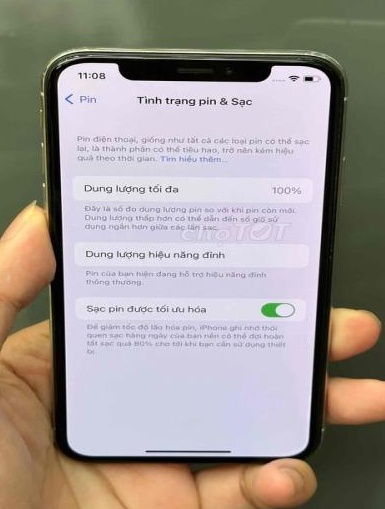scratch: (279, 41, 344, 72), (49, 41, 103, 76), (325, 244, 349, 267), (333, 158, 347, 182)
